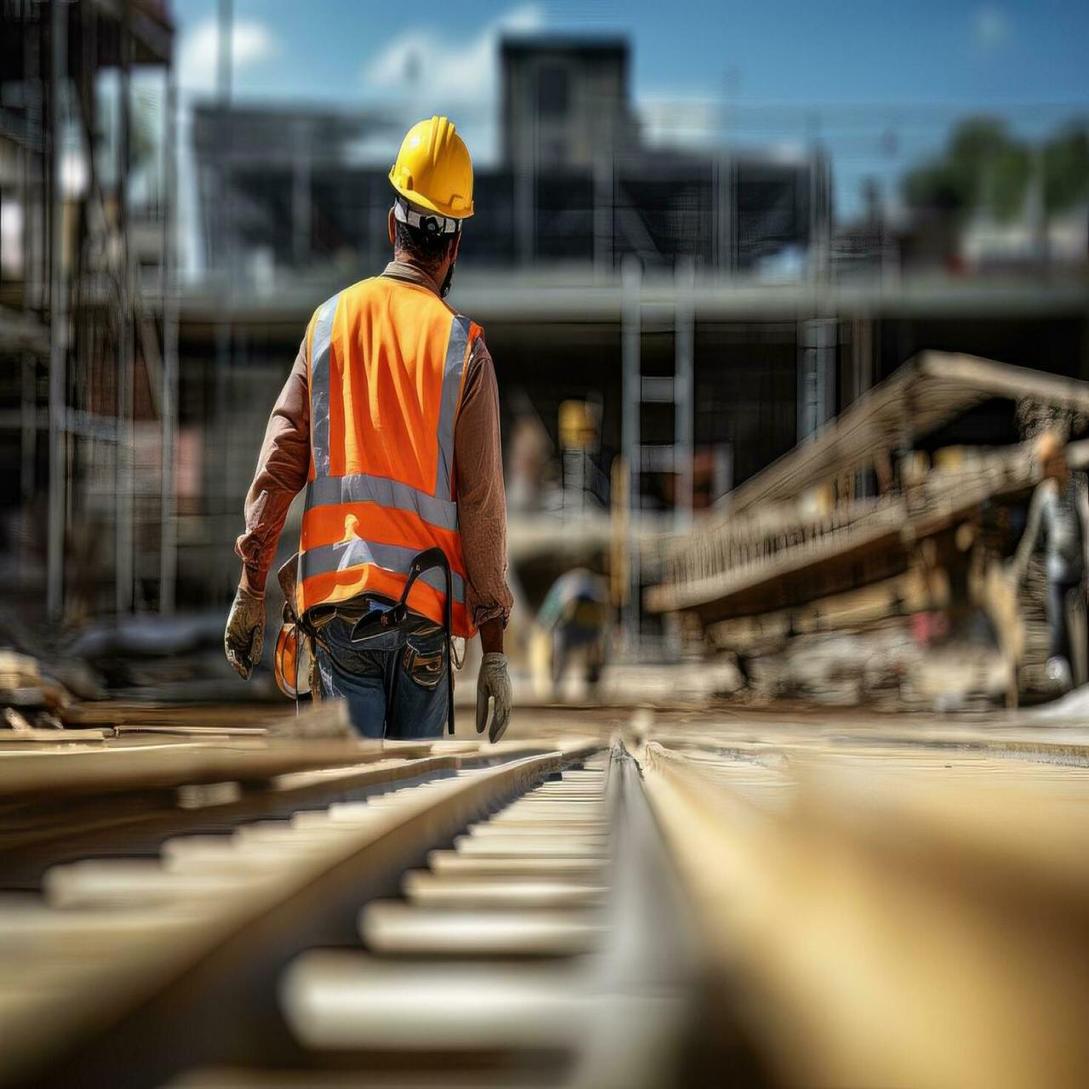Person: (250, 103, 515, 764)
Safety_Vest: (293, 272, 482, 649)
